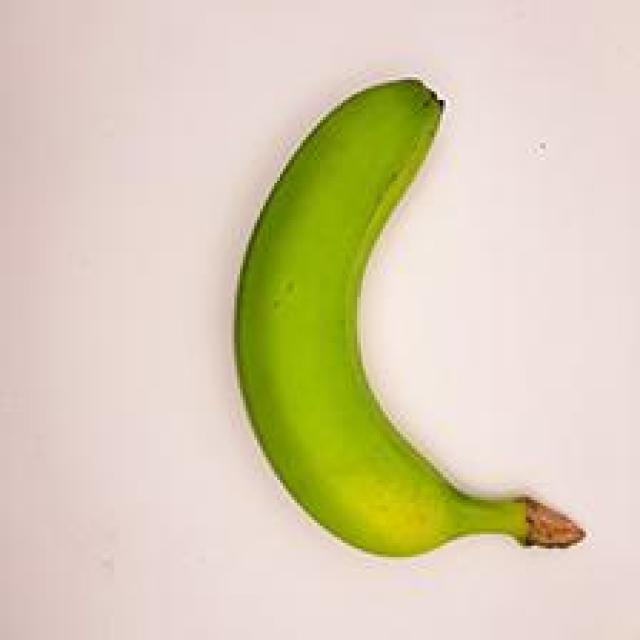Unripe: (214, 62, 602, 584)
